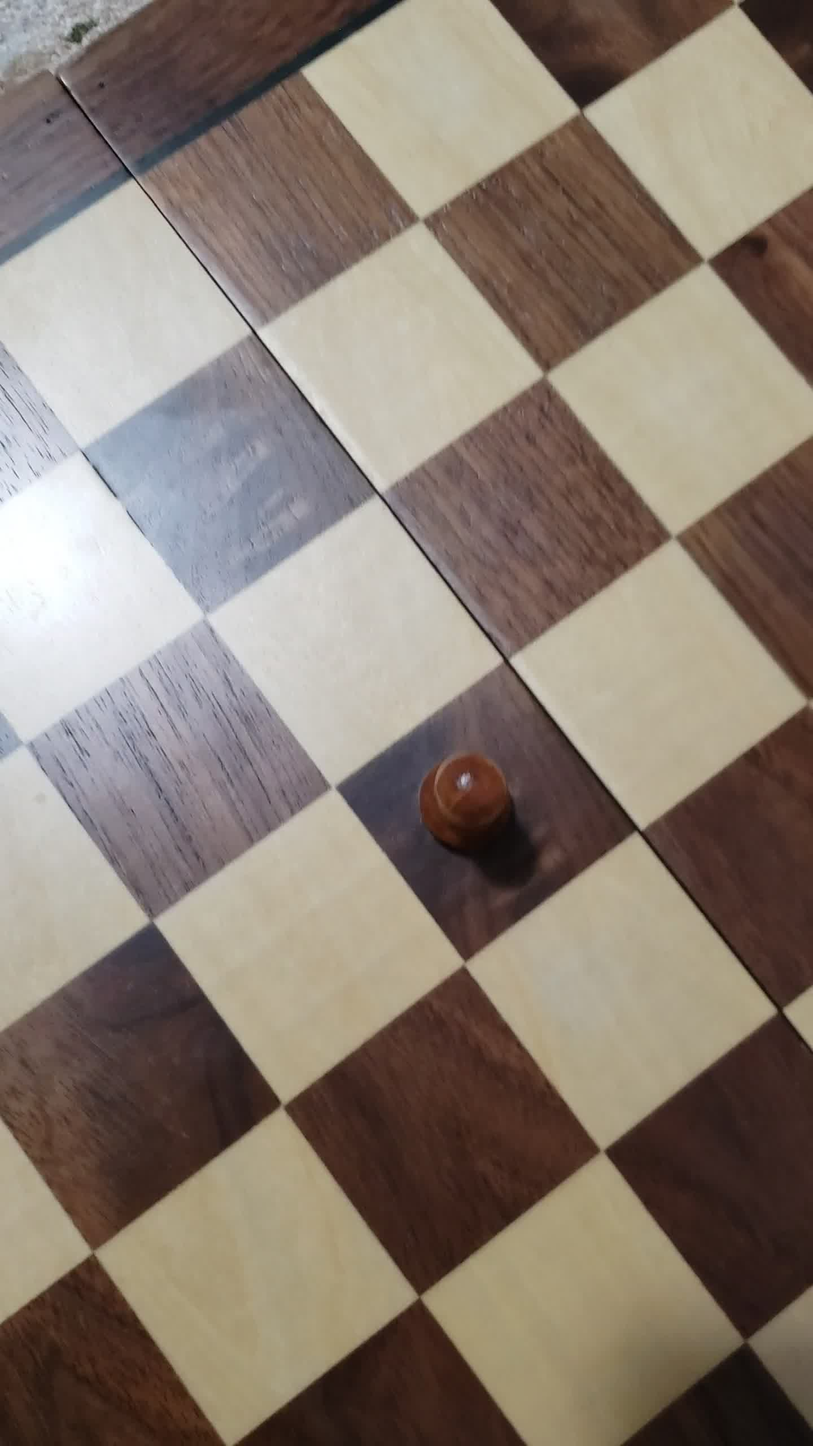black-pawn: (390, 726, 541, 899)
